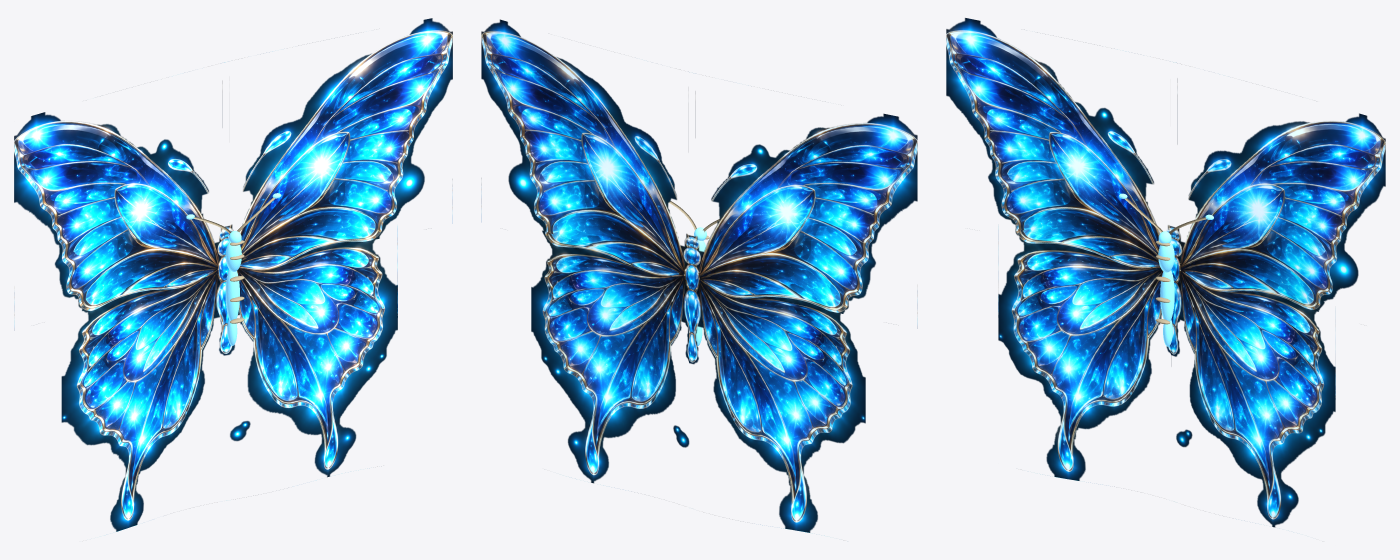
File: crystal-butterfly.glb
3 views of the same model, side by side, from view 1: azimuth 30°, elevation 25°; view 2: azimuth 150°, elevation 25°; view 3: azimuth 330°, elevation 25° (orthographic).
Visible parts, largest first — view 1: Wing_R_Upper, Wing_L_Upper, Wing_R_Lower, Wing_L_Lower, Abdomen_Gem; view 2: Wing_L_Upper, Wing_R_Upper, Wing_L_Lower, Wing_R_Lower; view 3: Wing_L_Upper, Wing_R_Upper, Wing_R_Lower, Wing_L_Lower, Abdomen_Gem.
Part boxes in pixels (x1,y1,x2,y2): Wing_R_Upper: (223,18,452,272); Wing_L_Upper: (14,112,226,310); Wing_R_Lower: (223,225,397,477); Wing_L_Lower: (61,272,223,531); Abdomen_Gem: (225,269,239,320); Wing_L_Upper: (688,113,917,313); Wing_R_Upper: (481,19,695,280); Wing_L_Lower: (689,270,865,532); Wing_R_Lower: (531,230,693,483); Wing_L_Upper: (946,18,1177,269); Wing_R_Upper: (1170,113,1385,311); Wing_R_Lower: (1171,262,1335,527); Wing_L_Lower: (998,228,1170,480); Abdomen_Gem: (1160,270,1174,321).
Bounding box in the file's own units: 5.13 × 4.9 × 0.285.
6 materials, 4 textured.
